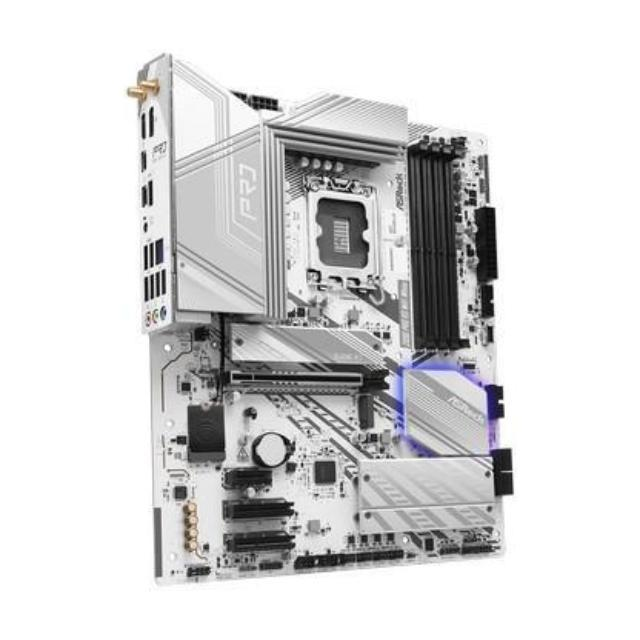Mainboard: (131, 51, 520, 596)
